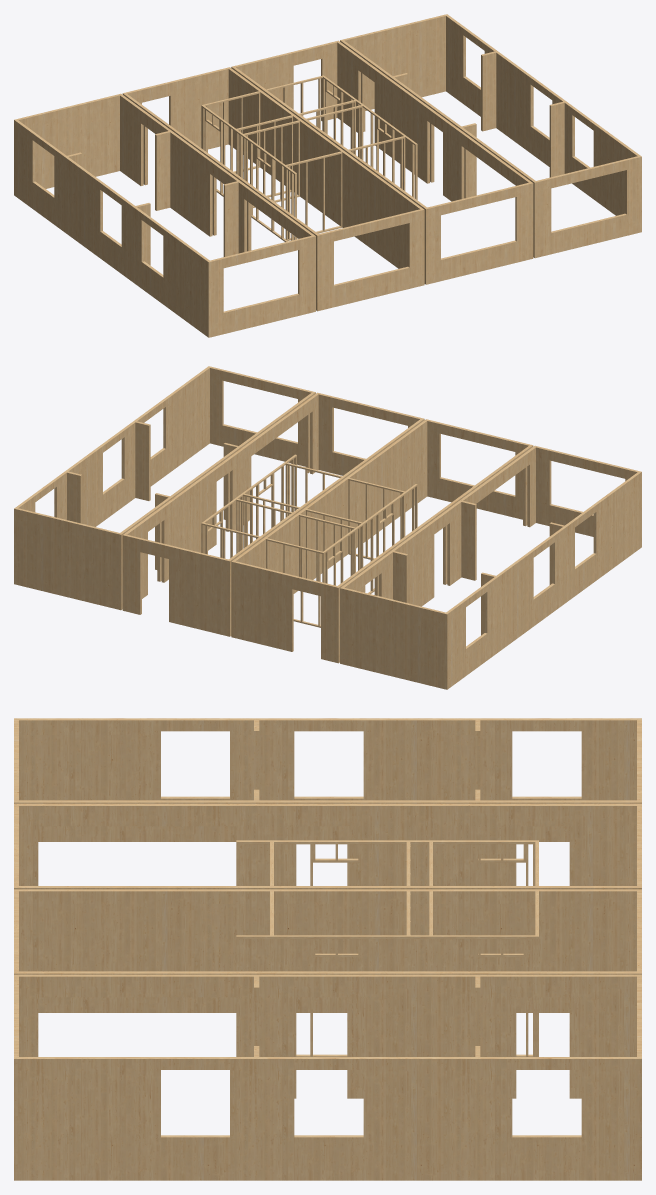
File: Karkass_CLT v2.glb
The picture shows the model from 3 angles, top to bottom: view 1: azimuth 30°, elevation 25°; view 2: azimuth 150°, elevation 25°; view 3: azimuth 270°, elevation 25°; orthographic projection. The views are drawn at different scales.
Parts seen in each view (by area): view 1: CLT_011 (×2), CLT_012 (×2); view 2: CLT_011 (×2), CLT_012 (×2); view 3: CLT_011 (×2), CLT_012 (×2), Post 45x95_3350 (×2).
Part boxes in pixels (box(x1,y1,x2,y2)): CLT_011 (×2): box(14, 14, 641, 337); CLT_012 (×2): box(122, 40, 533, 311); CLT_011 (×2): box(14, 366, 641, 689); CLT_012 (×2): box(122, 392, 533, 663); CLT_011 (×2): box(14, 718, 641, 1180); CLT_012 (×2): box(14, 803, 641, 1012); Post 45x95_3350 (×2): box(236, 840, 535, 938).
Size of the model in its own units: 15.15 by 2.52 by 11.8.
1 material, 1 textured.
